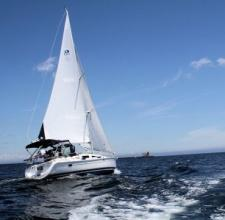fanchuan: (16, 6, 122, 184)
